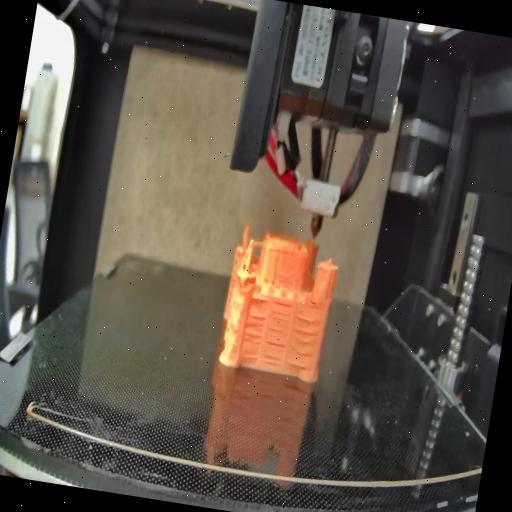cracks: (285, 315, 319, 369), (238, 310, 266, 360), (267, 298, 293, 333), (261, 334, 287, 366), (268, 244, 290, 258), (249, 292, 269, 306), (306, 294, 320, 309)
